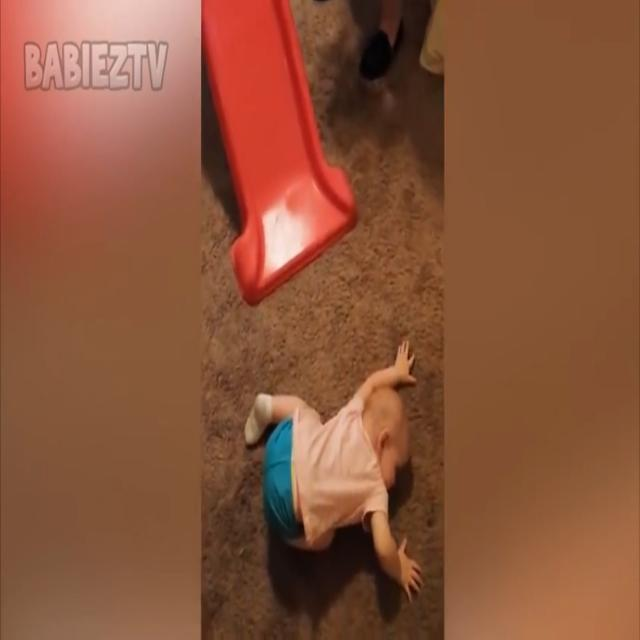child: (241, 336, 423, 604)
